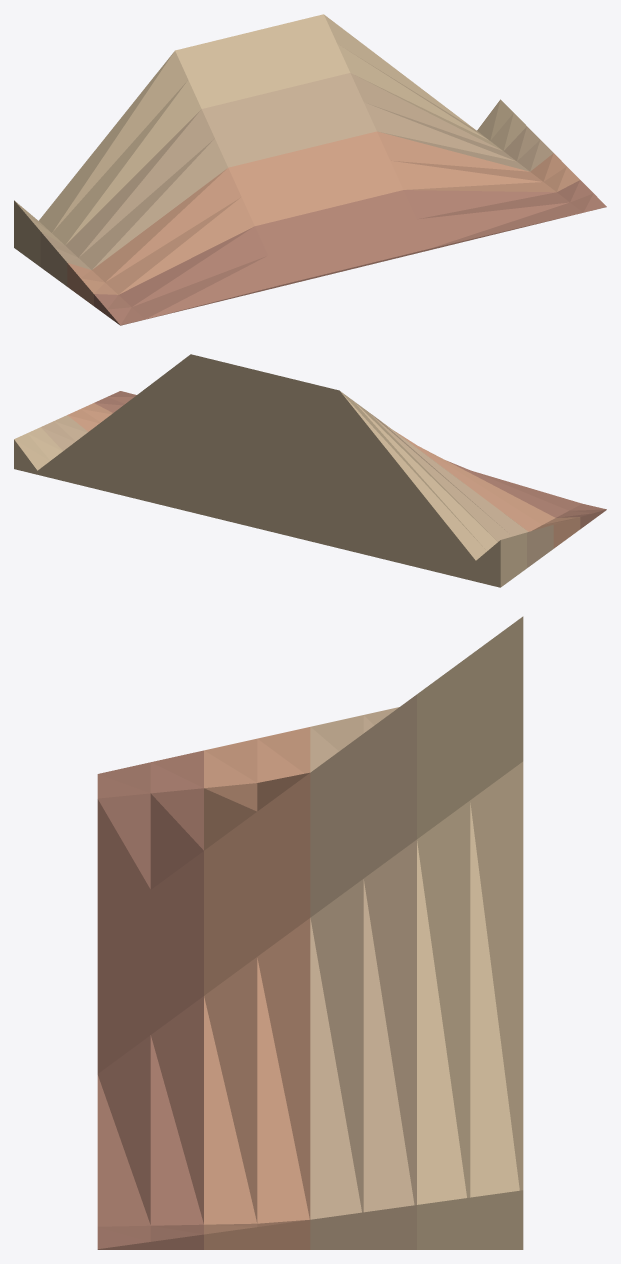
The model's file is M04_P04_R03_FOUR_SEPARATE_EXPERIMENTAL_TAPERED_BACKING_STONES.glb.
The picture shows the model from 3 angles, top to bottom: view 1: azimuth 30°, elevation 25°; view 2: azimuth 150°, elevation 25°; view 3: azimuth 270°, elevation 25°; orthographic projection. The views are drawn at different scales.
Visible parts, largest first — view 1: P04_EXPERIMENTAL_WEDGE_STONE_01_Z2400_Z2420, P04_EXPERIMENTAL_WEDGE_STONE_04_Z2460_Z2480, P04_EXPERIMENTAL_WEDGE_STONE_02_Z2420_Z2440, P04_EXPERIMENTAL_WEDGE_STONE_03_Z2440_Z2460; view 2: P04_EXPERIMENTAL_WEDGE_STONE_01_Z2400_Z2420, P04_EXPERIMENTAL_WEDGE_STONE_02_Z2420_Z2440, P04_EXPERIMENTAL_WEDGE_STONE_03_Z2440_Z2460, P04_EXPERIMENTAL_WEDGE_STONE_04_Z2460_Z2480; view 3: P04_EXPERIMENTAL_WEDGE_STONE_01_Z2400_Z2420, P04_EXPERIMENTAL_WEDGE_STONE_02_Z2420_Z2440, P04_EXPERIMENTAL_WEDGE_STONE_03_Z2440_Z2460, P04_EXPERIMENTAL_WEDGE_STONE_04_Z2460_Z2480.
Part boxes in pixels (x1,y1,x2,y2): P04_EXPERIMENTAL_WEDGE_STONE_01_Z2400_Z2420: (14,14,526,266); P04_EXPERIMENTAL_WEDGE_STONE_04_Z2460_Z2480: (94,180,606,325); P04_EXPERIMENTAL_WEDGE_STONE_02_Z2420_Z2440: (40,73,553,286); P04_EXPERIMENTAL_WEDGE_STONE_03_Z2440_Z2460: (67,131,579,305); P04_EXPERIMENTAL_WEDGE_STONE_01_Z2400_Z2420: (14,354,526,587); P04_EXPERIMENTAL_WEDGE_STONE_02_Z2420_Z2440: (41,411,553,567); P04_EXPERIMENTAL_WEDGE_STONE_03_Z2440_Z2460: (67,403,580,548); P04_EXPERIMENTAL_WEDGE_STONE_04_Z2460_Z2480: (94,391,606,528); P04_EXPERIMENTAL_WEDGE_STONE_01_Z2400_Z2420: (417,616,523,1249); P04_EXPERIMENTAL_WEDGE_STONE_02_Z2420_Z2440: (310,694,416,1249); P04_EXPERIMENTAL_WEDGE_STONE_03_Z2440_Z2460: (204,727,310,1249); P04_EXPERIMENTAL_WEDGE_STONE_04_Z2460_Z2480: (97,750,203,1249).
Bounding box in the file's own units: 211 × 65.52 × 80.
